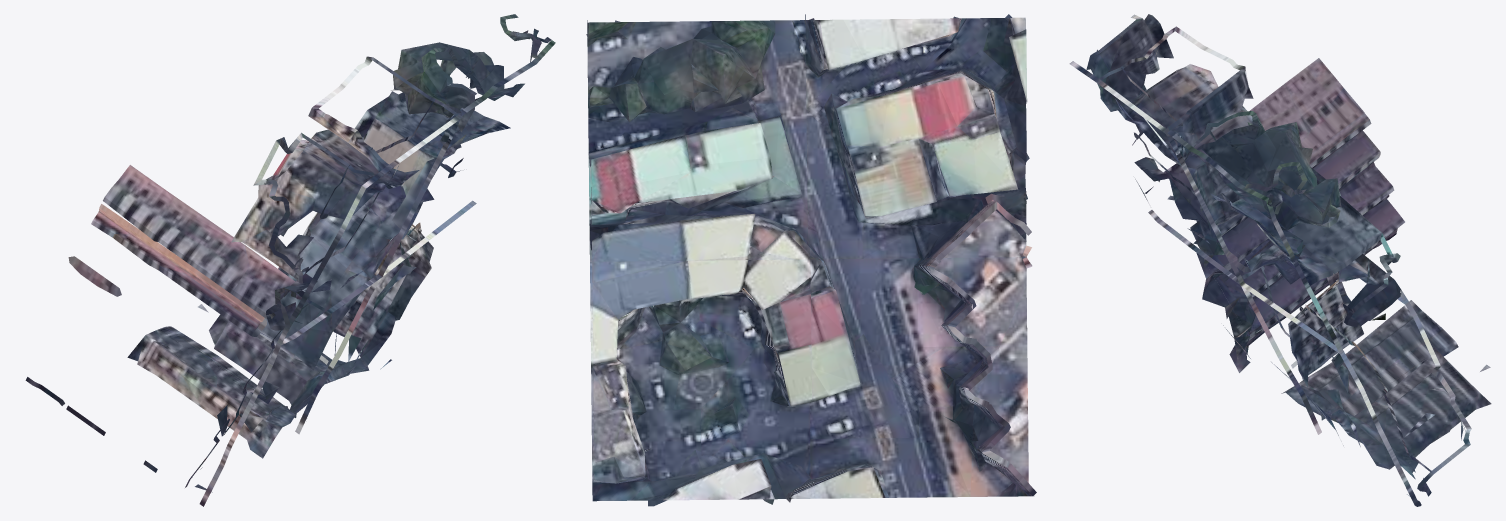
3 views of the same model, side by side, from view 1: azimuth 30°, elevation 25°; view 2: azimuth 150°, elevation 25°; view 3: azimuth 270°, elevation 25° (orthographic). The views are drawn at different scales.
Size of the model in its own units: 96.35 by 77.9 by 77.26.
Materials: 2 (2 with a texture image).
